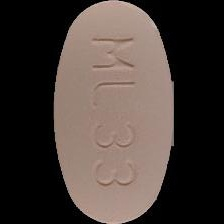33342-058: (0, 0, 224, 224)
